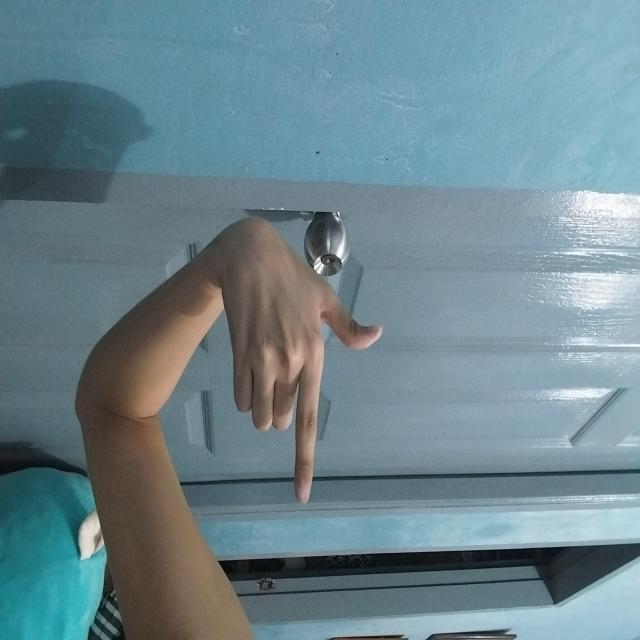G: (258, 259, 500, 416)
